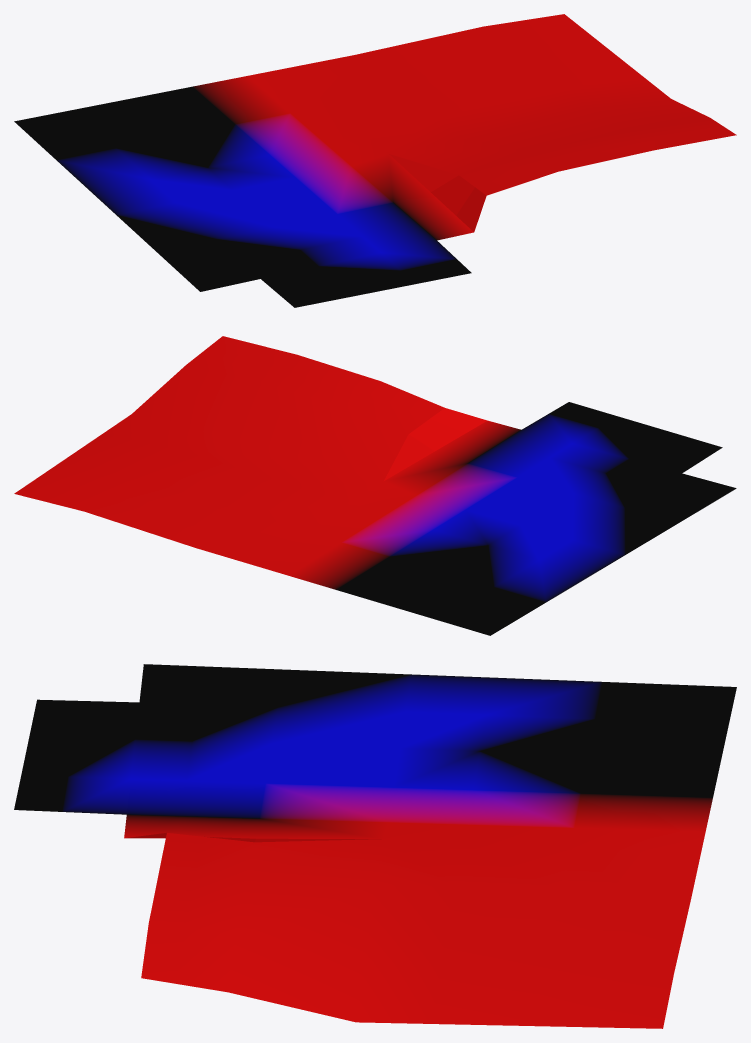
Rendered from V_F_GROUND_1.FBX.
3 views of the same model, one above another, from view 1: azimuth 30°, elevation 25°; view 2: azimuth 150°, elevation 25°; view 3: azimuth 270°, elevation 25° (orthographic). The views are drawn at different scales.
Parts seen in each view (by area): view 1: Plane003; view 2: Plane003; view 3: Plane003.
Boxes of the visible parts, <box> form: Plane003: <box>14,14,736,307</box>; Plane003: <box>14,336,736,635</box>; Plane003: <box>14,664,736,1028</box>.
Size of the model in its own units: 3042 by 152 by 2549.
